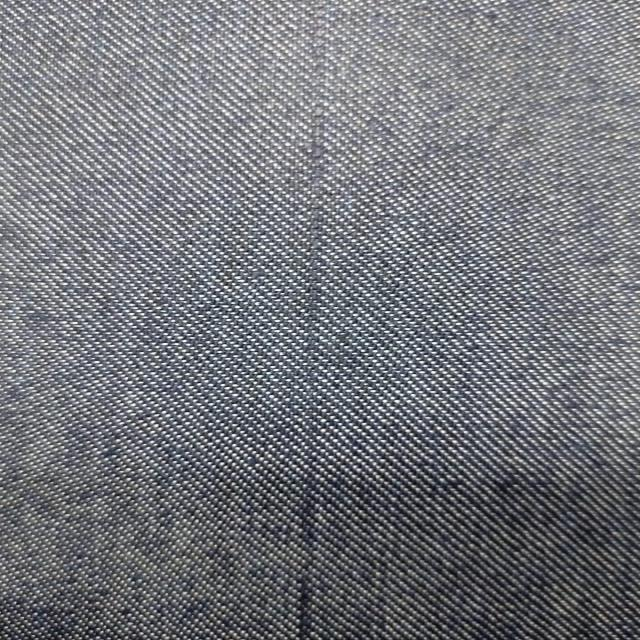Line: (293, 2, 327, 640)
